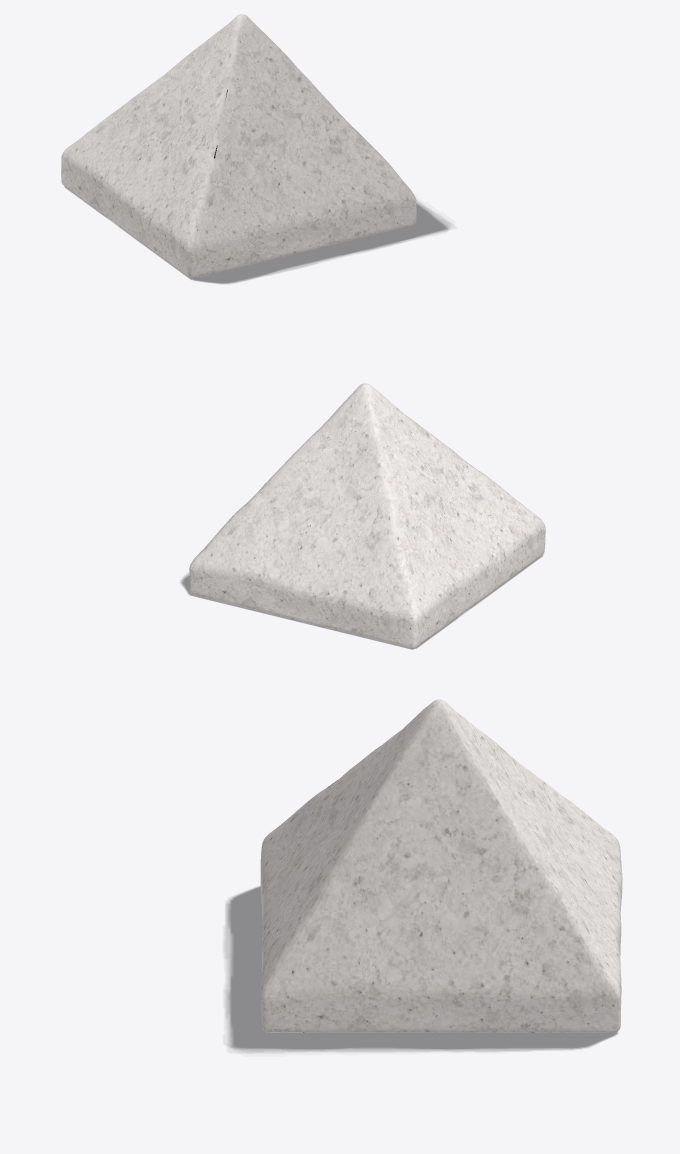
Rendered from tak-capstone-white.glb.
The picture shows the model from 3 angles, top to bottom: view 1: azimuth 30°, elevation 25°; view 2: azimuth 150°, elevation 25°; view 3: azimuth 270°, elevation 25°; orthographic projection. The views are drawn at different scales.
Visible parts, largest first — view 1: tak-capstone-white, tak-capstone-white ground shadow; view 2: tak-capstone-white, tak-capstone-white ground shadow; view 3: tak-capstone-white, tak-capstone-white ground shadow.
Part boxes in pixels (left/top/right/bottom): tak-capstone-white: left=61, top=14, right=416, bottom=278; tak-capstone-white ground shadow: left=65, top=187, right=450, bottom=283; tak-capstone-white: left=189, top=383, right=545, bottom=648; tak-capstone-white ground shadow: left=181, top=555, right=542, bottom=649; tak-capstone-white: left=260, top=699, right=622, bottom=1032; tak-capstone-white ground shadow: left=225, top=886, right=617, bottom=1052.
Bounding box in the file's own units: 0.051 × 0.0224 × 0.0509.
2 materials, 2 textured.
